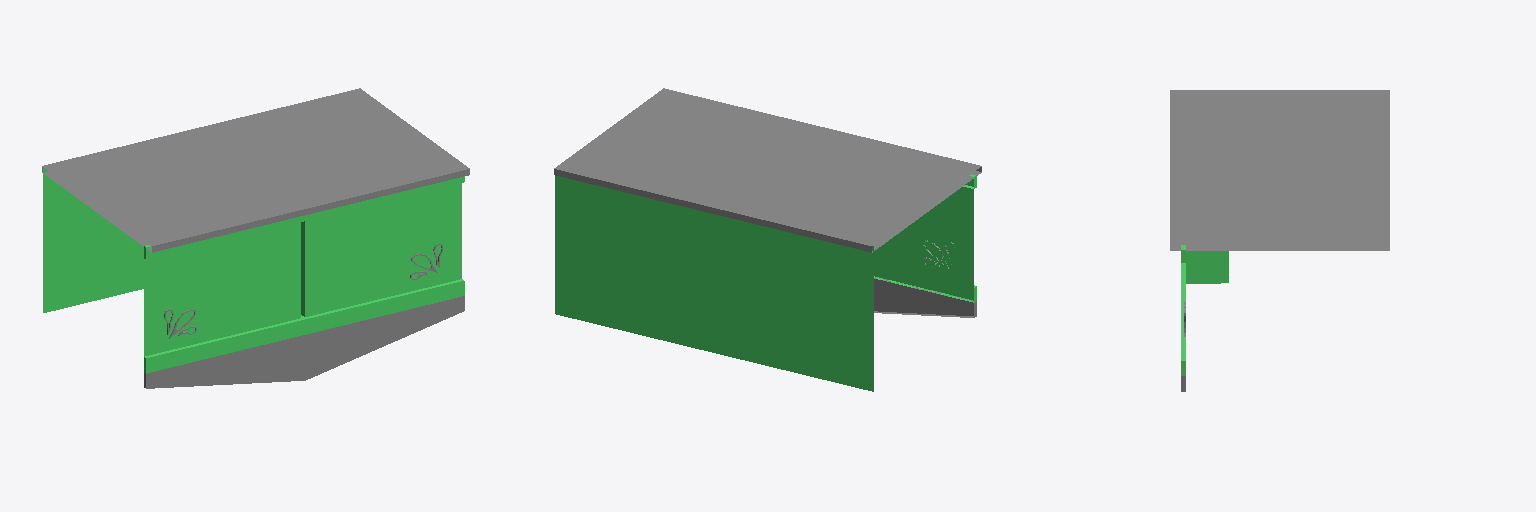
File: old_commode_middle.obj
3 views of the same model, side by side, from view 1: azimuth 30°, elevation 25°; view 2: azimuth 150°, elevation 25°; view 3: azimuth 270°, elevation 25° (orthographic).
Visible parts, largest first — view 1: old_commode_middle; view 2: old_commode_middle; view 3: old_commode_middle.
Part boxes in pixels (x1,y1,x2,y2): old_commode_middle: (42, 88, 469, 388); old_commode_middle: (554, 88, 981, 391); old_commode_middle: (1170, 90, 1389, 391).
Size of the model in its own units: 100 by 53.17 by 59.85.